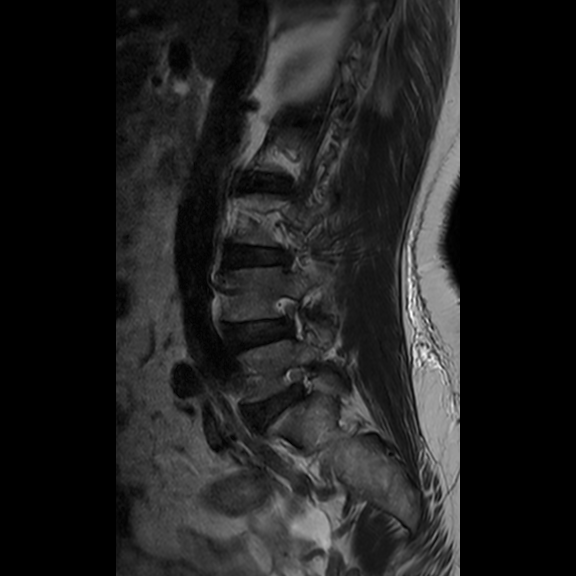RFS1: (262, 288, 314, 353), (271, 356, 320, 417)
